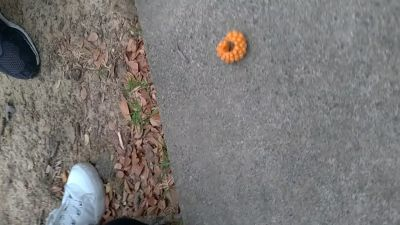eggs: (215, 31, 248, 65)
